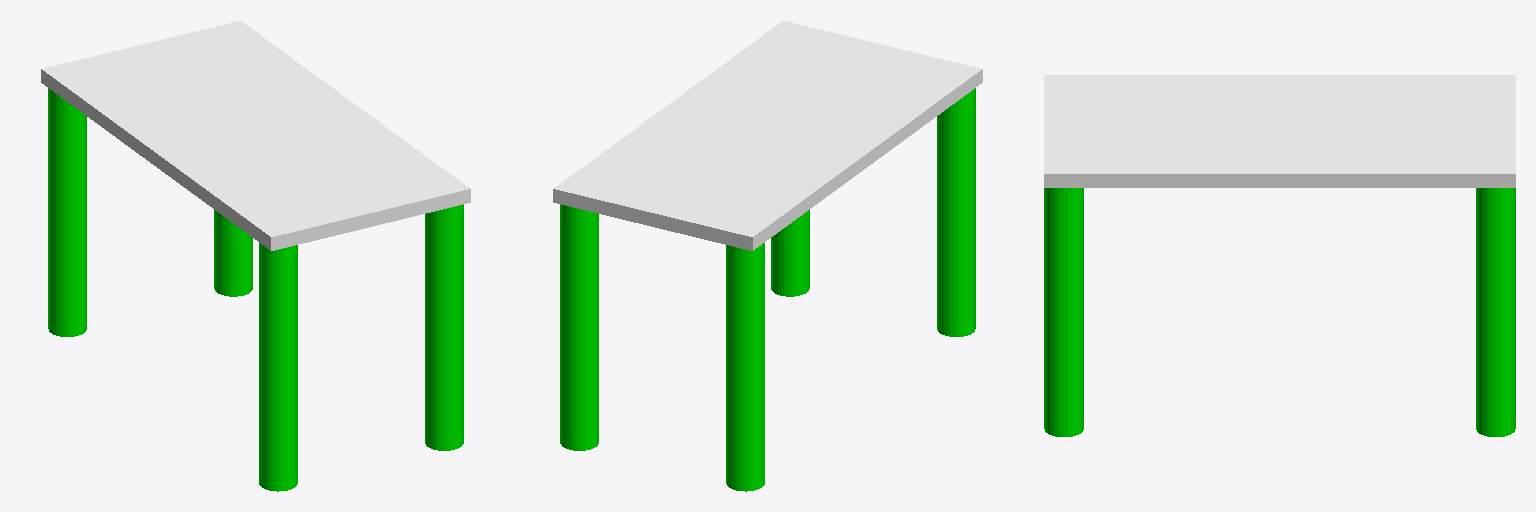
The robot description file, URDF, robot "table.urdf":
<?xml version="0.0" ?>
<robot name="table.urdf">
  <link name="base_link">
    <inertial>
      <origin rpy="0 0 0" xyz="0 0 0"/>
       <mass value="1"/>
       <inertia ixx="1" ixy="0" ixz="0" iyy="1" iyz="0" izz="1"/>
    </inertial>
  </link>

  <link name="top_surface">
    <contact>
      <lateral_friction value="1"/>
    </contact>
    <inertial>
      <origin rpy="0 0 0" xyz="0 0 0"/>
       <mass value="1"/>
       <inertia ixx="1" ixy="0" ixz="0" iyy="1" iyz="0" izz="1"/>
    </inertial>
    <visual>
      <origin rpy="0 0 0" xyz="0 0 0"/>
      <geometry>
			<box size="0.6 1.2 0.04"/>
      </geometry>
      <material name="white">
        <color rgba="1 1 1 1"/>
      </material>
    </visual>
    <collision>
      <!--origin rpy="0 0 0" xyz="0 0 0"/-->
      <origin rpy="0 0 0" xyz="0 0 0.0"/>
      <geometry>
	 	   <box size="0.6 1.2 0.04"/>
      </geometry>
    </collision>
  </link>

  <link name="back_left_leg">
    <inertial>
      <origin rpy="0 0 0" xyz="0 0 0"/>
       <mass value="1"/>
       <inertia ixx="1" ixy="0" ixz="0" iyy="1" iyz="0" izz="1"/>
    </inertial>
    <visual>
      <geometry>
        <cylinder length="0.7" radius="0.05"/>
      </geometry>
      <material name="green">
        <color rgba="0 1 0 1"/>
      </material>
    </visual>
    <collision>
      <geometry>
        <cylinder length="0.7" radius="0.05"/>
      </geometry>
    </collision>
  </link>

  <link name="back_right_leg">
    <inertial>
      <origin rpy="0 0 0" xyz="0 0 0"/>
       <mass value="1"/>
       <inertia ixx="1" ixy="0" ixz="0" iyy="1" iyz="0" izz="1"/>
    </inertial>
    <visual>
      <geometry>
        <cylinder length="0.7" radius="0.05"/>
      </geometry>
      <material name="green">
        <color rgba="0 1 0 1"/>
      </material>
    </visual>
    <collision>
      <geometry>
        <cylinder length="0.7" radius="0.05"/>
      </geometry>
    </collision>
  </link>

  <link name="front_left_leg">
    <inertial>
      <origin rpy="0 0 0" xyz="0 0 0"/>
       <mass value="1"/>
       <inertia ixx="1" ixy="0" ixz="0" iyy="1" iyz="0" izz="1"/>
    </inertial>
    <visual>
      <geometry>
        <cylinder length="0.7" radius="0.05"/>
      </geometry>
      <material name="green">
        <color rgba="0 1 0 1"/>
      </material>
    </visual>
    <collision>
      <geometry>
        <cylinder length="0.7" radius="0.05"/>
      </geometry>
    </collision>
  </link>

  <link name="front_right_leg">
    <inertial>
      <origin rpy="0 0 0" xyz="0 0 0"/>
       <mass value="1"/>
       <inertia ixx="1" ixy="0" ixz="0" iyy="1" iyz="0" izz="1"/>
    </inertial>
    <visual>
      <geometry>
        <cylinder length="0.7" radius="0.05"/>
      </geometry>
      <material name="green">
        <color rgba="0 1 0 1"/>
      </material>
    </visual>
    <collision>
      <geometry>
        <cylinder length="0.7" radius="0.05"/>
      </geometry>
    </collision>
  </link>
  <joint name="base_link_to_top_surface" type="fixed">
    <parent link="base_link"/>
    <child link="top_surface"/>
    <origin xyz="0 0 -0.02"/>
  </joint>

  <joint name="top_surface_to_back_left_leg" type="fixed">
    <parent link="top_surface"/>
    <child link="back_left_leg"/>
    <origin xyz="-0.25 0.55 -0.37"/>
  </joint>

  <joint name="top_surface_to_back_right_leg" type="fixed">
    <parent link="top_surface"/>
    <child link="back_right_leg"/>
    <origin xyz="-0.25 -0.55 -0.37"/>
  </joint>

  <joint name="top_surface_to_front_left_leg" type="fixed">
    <parent link="top_surface"/>
    <child link="front_left_leg"/>
    <origin xyz="0.25 0.55 -0.37"/>
  </joint>

  <joint name="top_surface_to_front_right_leg" type="fixed">
    <parent link="top_surface"/>
    <child link="front_right_leg"/>
    <origin xyz="0.25 -0.55 -0.37"/>
  </joint>
</robot>

--- Facts derived from the render (not from the file) ---
Views: 3 orthographic renders of the robot side by side, from view 1: azimuth 30°, elevation 25°; view 2: azimuth 150°, elevation 25°; view 3: azimuth 270°, elevation 25°.
Model table.urdf with 6 links and 5 joints (5 fixed), rooted at base_link, posed every joint at zero.
Visible links, largest first — view 1: top_surface, back_right_leg, front_right_leg, back_left_leg, front_left_leg; view 2: top_surface, back_left_leg, front_left_leg, back_right_leg, front_right_leg; view 3: top_surface, front_left_leg, front_right_leg.
Link boxes in pixels (x1,y1,x2,y2): top_surface: (41, 21, 470, 250); back_right_leg: (259, 243, 297, 491); front_right_leg: (425, 204, 463, 450); back_left_leg: (48, 88, 86, 336); front_left_leg: (214, 210, 252, 296); top_surface: (553, 21, 982, 250); back_left_leg: (726, 243, 764, 491); front_left_leg: (560, 204, 598, 450); back_right_leg: (937, 88, 975, 336); front_right_leg: (771, 210, 809, 296); top_surface: (1044, 75, 1515, 187); front_left_leg: (1476, 188, 1515, 436); front_right_leg: (1044, 188, 1083, 436).
Bounding box of the posed robot: 0.6 × 1.2 × 0.74 m (x, y, z).
Geometry: primitives only (box / cylinder / sphere), no mesh files.